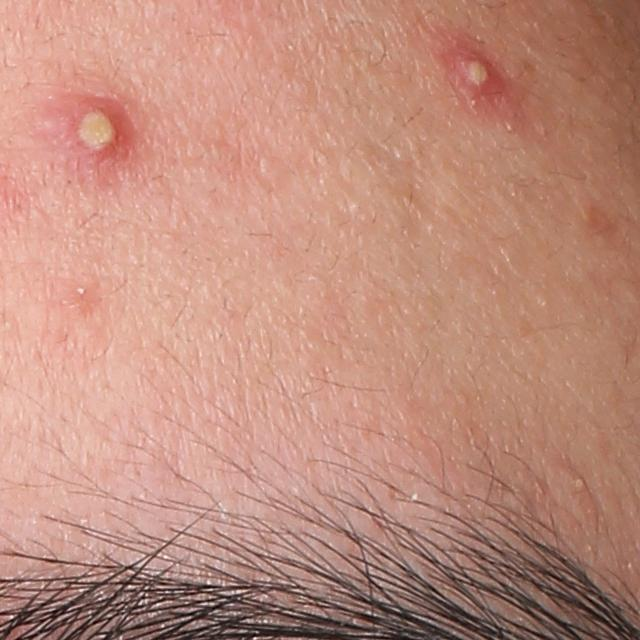pustule: (36, 84, 135, 176), (438, 41, 504, 103)
